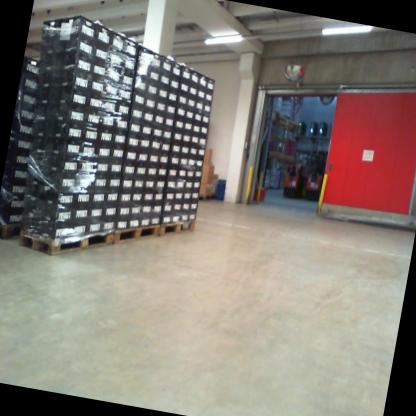pallet: (15, 210, 116, 267), (110, 212, 164, 258), (159, 211, 198, 246), (0, 214, 27, 246), (192, 187, 217, 204)
pallet_truck: (274, 126, 318, 203), (299, 131, 334, 203)
